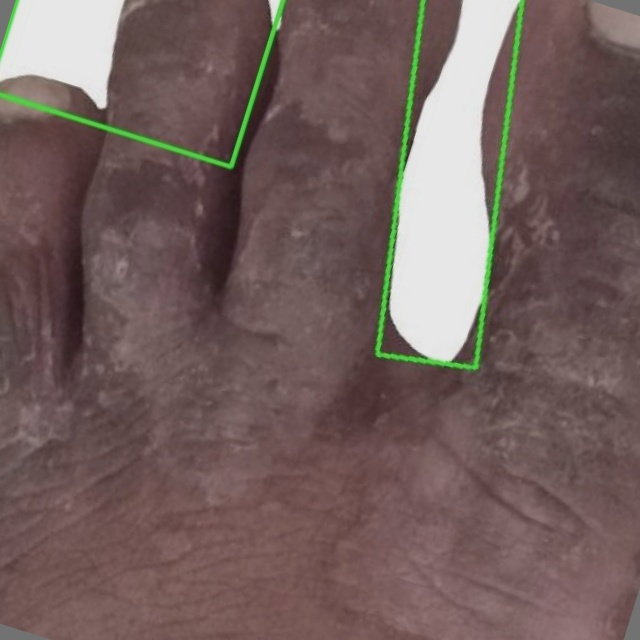Eczema: (378, 0, 524, 366)
